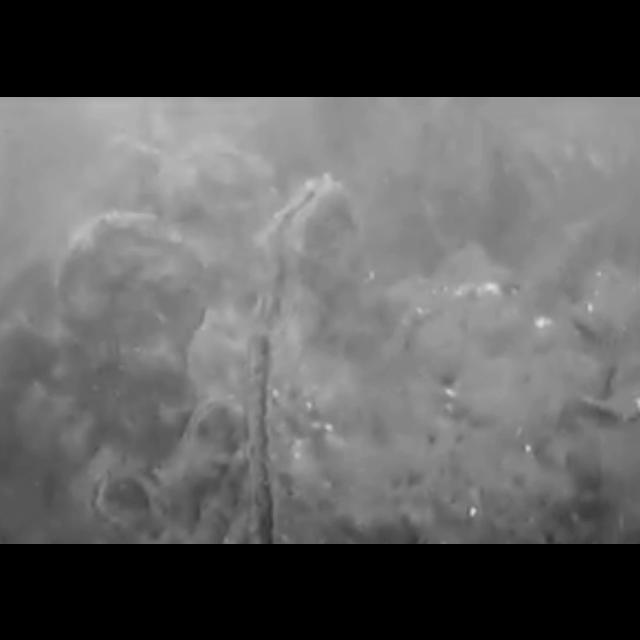Oyster-Closed: (48, 209, 212, 417)
Oyster-Open: (250, 176, 360, 318), (237, 323, 303, 543), (86, 456, 180, 530), (174, 392, 246, 481)
